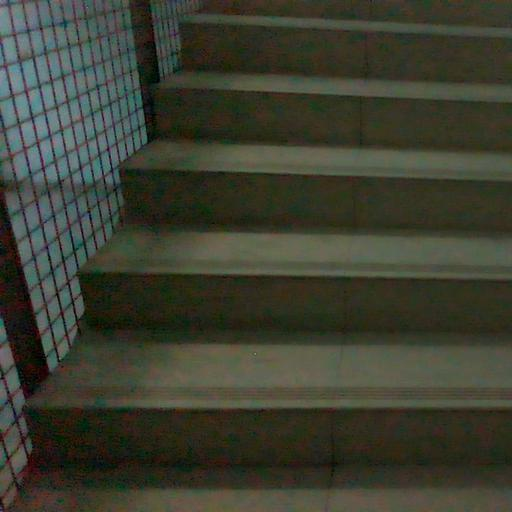stairs: (20, 0, 511, 511)
